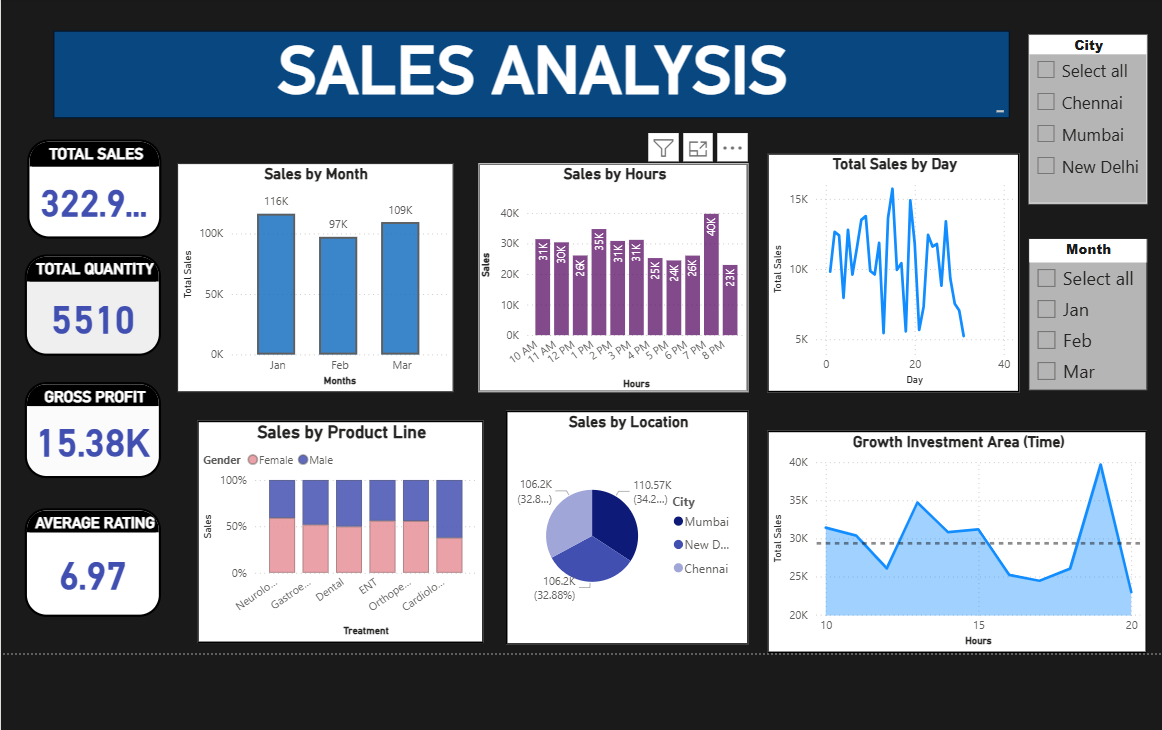

What the dashboard file says about the page in this screenshot:
{"tool":"powerbi","page":{"name":"Sales Analysis","canvas":[1280,720],"ordinal":0},"visuals":[{"type":"actionButton","title":"Total Sales by Time of Month","box":[81,503.6,259.3,82.3],"z":0},{"type":"actionButton","title":"Data Preparation and Model Setup ","box":[70,393.8,270.3,81],"z":1000},{"type":"actionButton","title":"Total Sales by Time of Day","box":[81,620.2,259.3,85.1],"z":2000},{"type":"textbox","title":"SALES ANALYSIS","box":[140,31.6,1038.8,96.1],"z":3000},{"type":"card","title":"TOTAL SALES","fields":{"Values":["dataset.Total Sales"]},"box":[81,193.5,140,120.8],"z":4000},{"type":"card","title":"TOTAL QUANTITY","fields":{"Values":["dataset.Total Quantity"]},"box":[326.6,192.1,138.6,120.8],"z":5000},{"type":"card","title":"GROSS PROFIT","fields":{"Values":["dataset.Total Gross Income"]},"box":[606.5,196.2,138.6,119.4],"z":6000},{"type":"card","title":"AVERAGE RATING","fields":{"Values":["dataset.Average Rating"]},"box":[850.8,196.2,167.4,119.4],"z":7000},{"type":"card","title":"AVG TICKET SIZE","fields":{"Values":["dataset.Avg Ticket Size"]},"box":[1074.4,192.1,140,120.8],"z":8000},{"type":"actionButton","title":"Sales by Product Line and Gender","box":[483,624.4,262.1,81],"z":9000},{"type":"actionButton","title":"Total Sales by Weekdays ","box":[492.6,503.6,252.5,81],"z":10000},{"type":"actionButton","title":"Median Sales by Product Line","box":[492.6,393.8,252.5,81],"z":11000},{"type":"actionButton","title":"Summary","box":[891.9,503.6,252.5,81],"z":12000},{"type":"actionButton","title":"Recommendation","box":[901.5,620.2,252.5,81],"z":13000},{"type":"actionButton","title":"Insight","box":[891.9,382.8,252.5,81],"z":14000},{"type":"actionButton","box":[70,395.2,270.3,79.6],"z":14001},{"type":"actionButton","box":[492.6,395.2,252.5,79.6],"z":14002},{"type":"actionButton","box":[81,620.2,259.3,81],"z":14003},{"type":"actionButton","box":[81,503.6,259.3,81],"z":14004},{"type":"actionButton","box":[891.9,503.6,252.5,81],"z":14005},{"type":"actionButton","box":[891.9,382.8,252.5,81],"z":14006},{"type":"actionButton","box":[483,625.7,262.1,79.6],"z":14007},{"type":"actionButton","box":[492.6,503.6,252.5,82.3],"z":14008}]}

Visuals, with their boxes on the page's 1280x720 design canvas (x1, y1, x2, y2). These are canvas units, not pixel positions in the 1162x730 screenshot, which may show the page scaled, cropped or inside an application window:
"Total Sales by Time of Month" actionButton: detection(81, 504, 340, 586)
"Data Preparation and Model Setup " actionButton: detection(70, 394, 340, 475)
"Total Sales by Time of Day" actionButton: detection(81, 620, 340, 705)
"SALES ANALYSIS" textbox: detection(140, 32, 1179, 128)
"TOTAL SALES" card: detection(81, 194, 221, 314)
"TOTAL QUANTITY" card: detection(327, 192, 465, 313)
"GROSS PROFIT" card: detection(606, 196, 745, 316)
"AVERAGE RATING" card: detection(851, 196, 1018, 316)
"AVG TICKET SIZE" card: detection(1074, 192, 1214, 313)
"Sales by Product Line and Gender" actionButton: detection(483, 624, 745, 705)
"Total Sales by Weekdays " actionButton: detection(493, 504, 745, 585)
"Median Sales by Product Line" actionButton: detection(493, 394, 745, 475)
"Summary" actionButton: detection(892, 504, 1144, 585)
"Recommendation" actionButton: detection(902, 620, 1154, 701)
"Insight" actionButton: detection(892, 383, 1144, 464)
actionButton: detection(70, 395, 340, 475)
actionButton: detection(493, 395, 745, 475)
actionButton: detection(81, 620, 340, 701)
actionButton: detection(81, 504, 340, 585)
actionButton: detection(892, 504, 1144, 585)
actionButton: detection(892, 383, 1144, 464)
actionButton: detection(483, 626, 745, 705)
actionButton: detection(493, 504, 745, 586)
